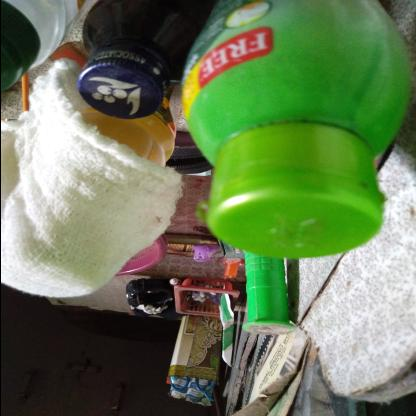bottle: (207, 238, 416, 416), (155, 106, 416, 241)
